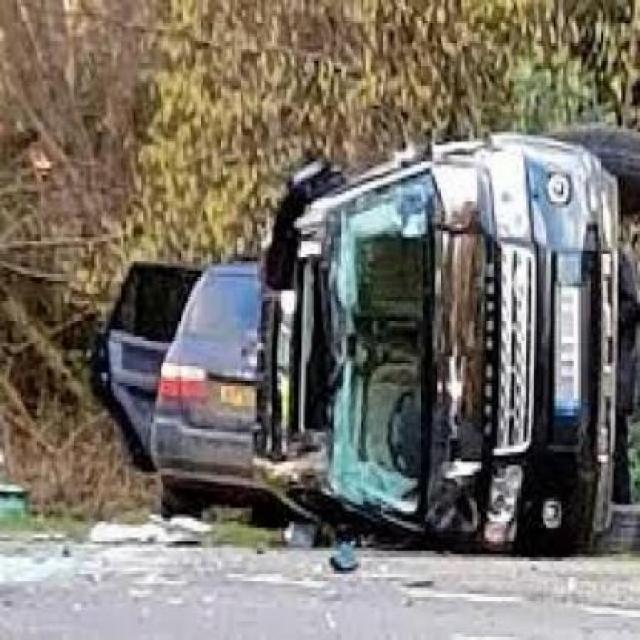Car Accident Detector - v4 Generation1 Exported: (121, 118, 640, 550)
